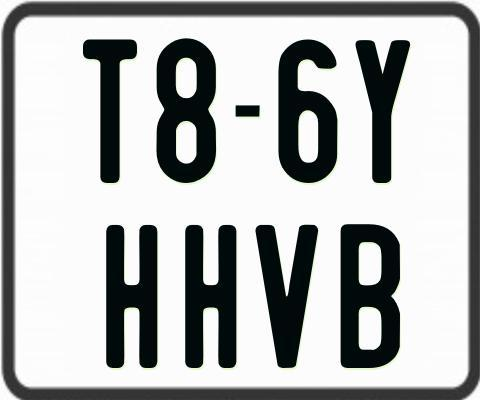6: (275, 39, 337, 183)
8: (154, 36, 219, 185)
B: (341, 223, 403, 368)
H: (106, 224, 161, 373), (184, 223, 235, 367)
T: (80, 39, 134, 183)
V: (256, 225, 322, 374)
Y: (354, 37, 412, 183)
